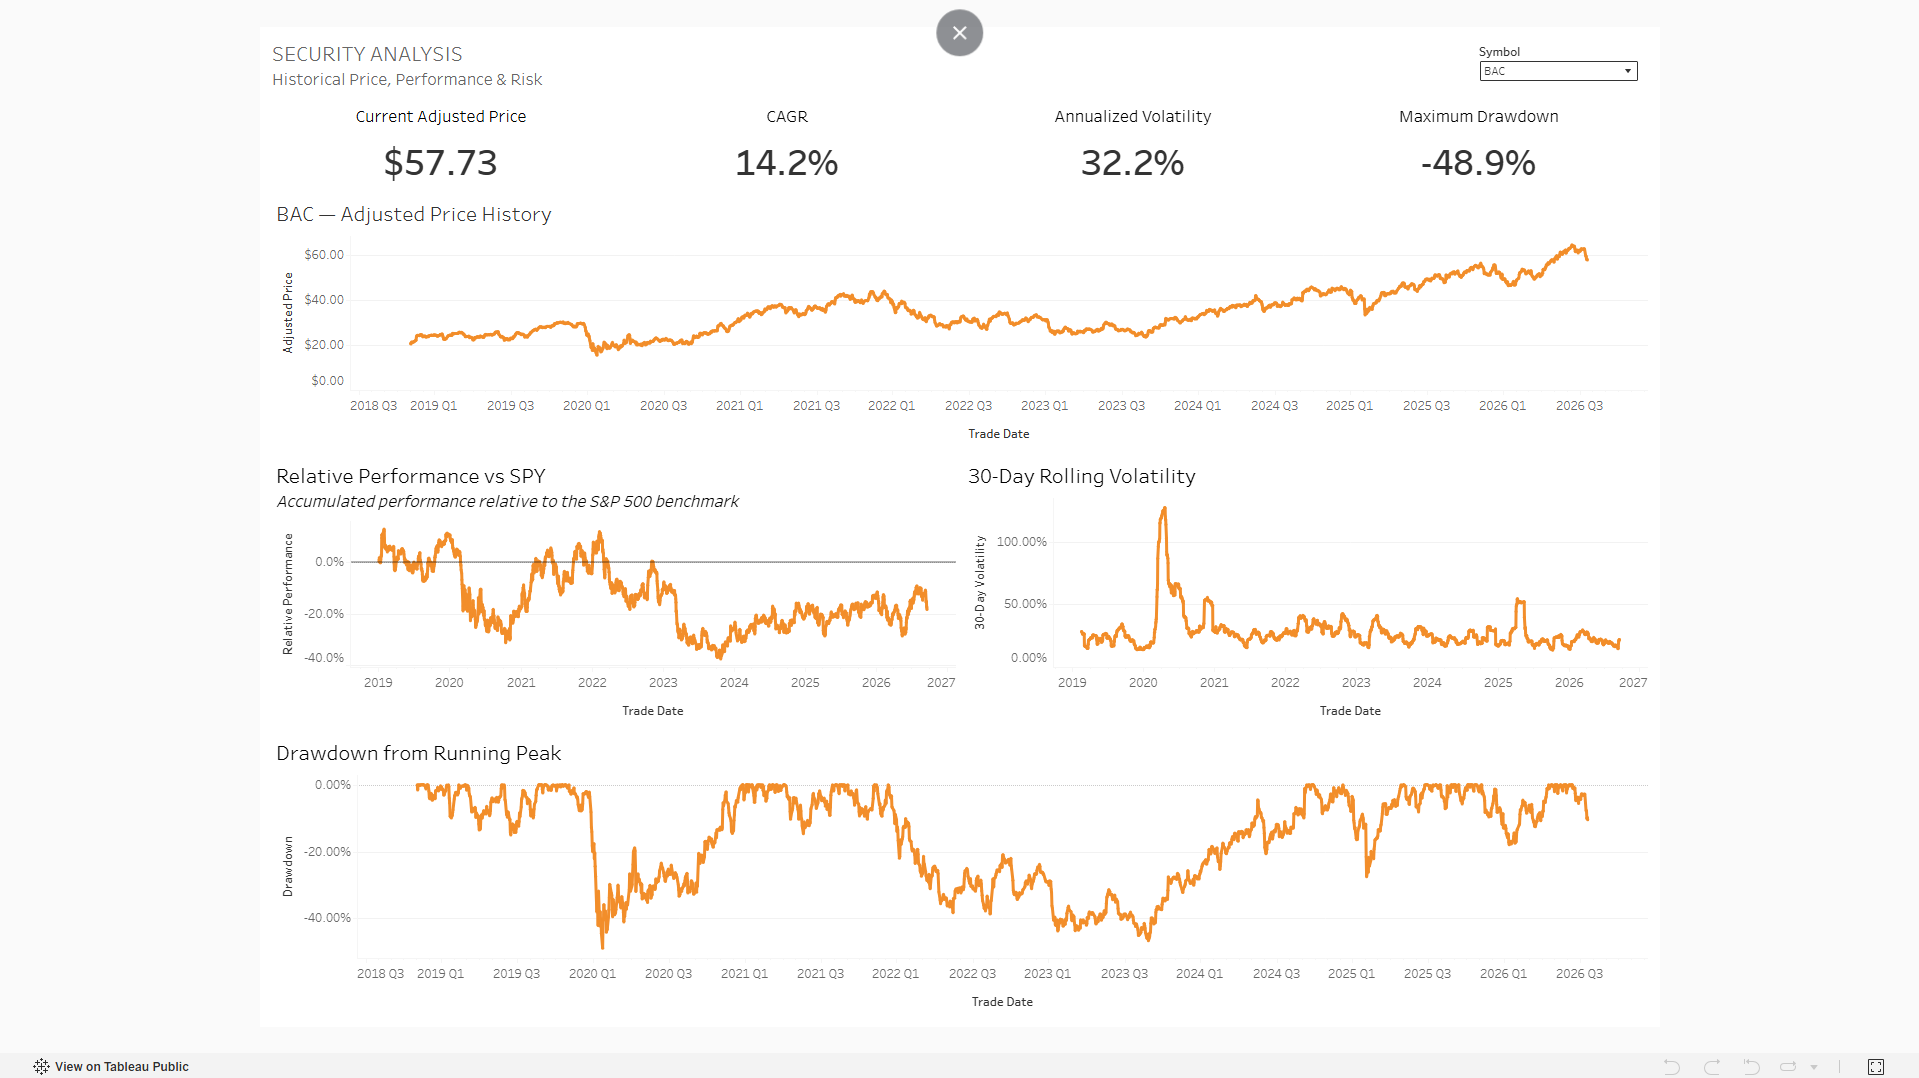

The dashboard page shown, as its layout file describes it:
{"tool":"tableau","page":{"name":"01 - Security Analysis Dashboard","canvas":[1400,1000],"ordinal":0},"visuals":[{"type":"text","box":[8,8,1384,59]},{"type":"filter","title":"01 - Security Price Trend","param":"[federated.1jch9lb1i02c4d1cy5hu0048z8uv].[none:Symbol:nk]","box":[1219,15,160,49]},{"type":"worksheet","title":"KPI - Current Price","mark":"Text","box":[8,67,346,95]},{"type":"worksheet","title":"KPI - CAGR","mark":"Text","box":[354,67,346,95]},{"type":"worksheet","title":"KPI - Annualized Volatility","mark":"Text","box":[700,67,346,95]},{"type":"worksheet","title":"KPI - Maximum Drawdown","mark":"Text","box":[1046,67,346,95]},{"type":"worksheet","title":"01 - Security Price Trend","mark":"Line","rows":["AdjustedClose"],"cols":["TradeDate"],"box":[8,162,1384,262]},{"type":"worksheet","title":"10 - Relative Performance vs SPY","mark":"Line","cols":["TradeDate"],"box":[8,424,692,277]},{"type":"worksheet","title":"04 - Rolling Volatility","mark":"Line","cols":["TradeDate"],"box":[700,424,692,277]},{"type":"worksheet","title":"05 - Drawdown","mark":"Line","cols":["TradeDate"],"box":[8,701,1384,291]}]}

Visuals, with their boxes on the page's 1400x1000 design canvas (x1, y1, x2, y2). These are canvas units, not pixel positions in the 1919x1078 screenshot, which may show the page scaled, cropped or inside an application window:
text: bbox=(8, 8, 1392, 67)
"01 - Security Price Trend" filter: bbox=(1219, 15, 1379, 64)
"KPI - Current Price" worksheet (Text marks): bbox=(8, 67, 354, 162)
"KPI - CAGR" worksheet (Text marks): bbox=(354, 67, 700, 162)
"KPI - Annualized Volatility" worksheet (Text marks): bbox=(700, 67, 1046, 162)
"KPI - Maximum Drawdown" worksheet (Text marks): bbox=(1046, 67, 1392, 162)
"01 - Security Price Trend" worksheet (Line marks): bbox=(8, 162, 1392, 424)
"10 - Relative Performance vs SPY" worksheet (Line marks): bbox=(8, 424, 700, 701)
"04 - Rolling Volatility" worksheet (Line marks): bbox=(700, 424, 1392, 701)
"05 - Drawdown" worksheet (Line marks): bbox=(8, 701, 1392, 992)
